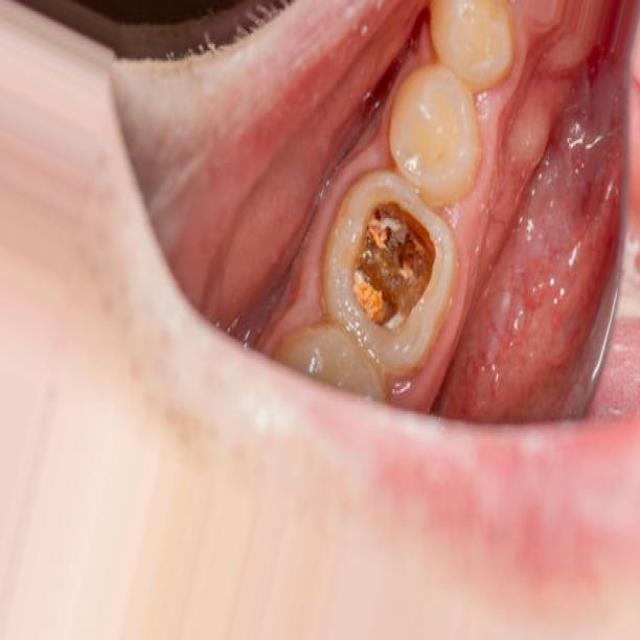caries: (332, 170, 456, 352)
